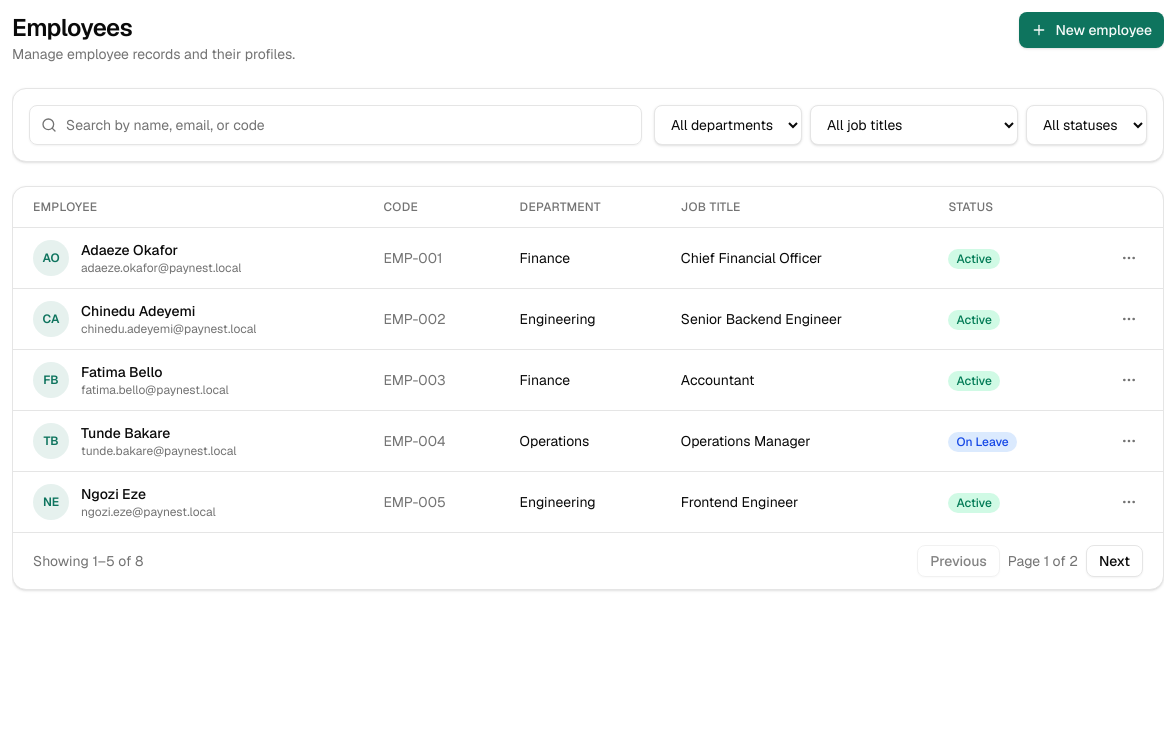
employees list › filters by status
Select "Terminated" in the dropdown named "Filter by status" at (1086, 125), box [1026,105,1147,145]
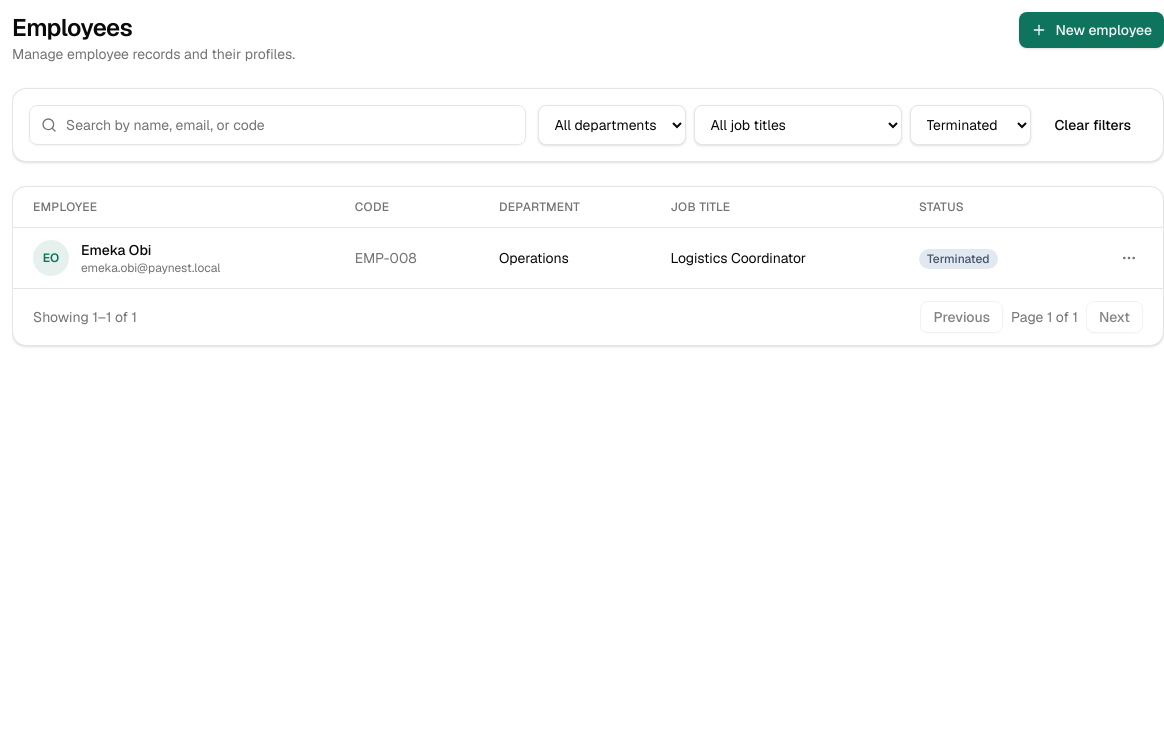
Check: the text "Emeka Obi" is shown, box [81,241,152,259]
Check: the text "Adaeze Okafor" is gone
Check: the text "Showing 1–1 of 1" is shown, box [33,307,137,327]
